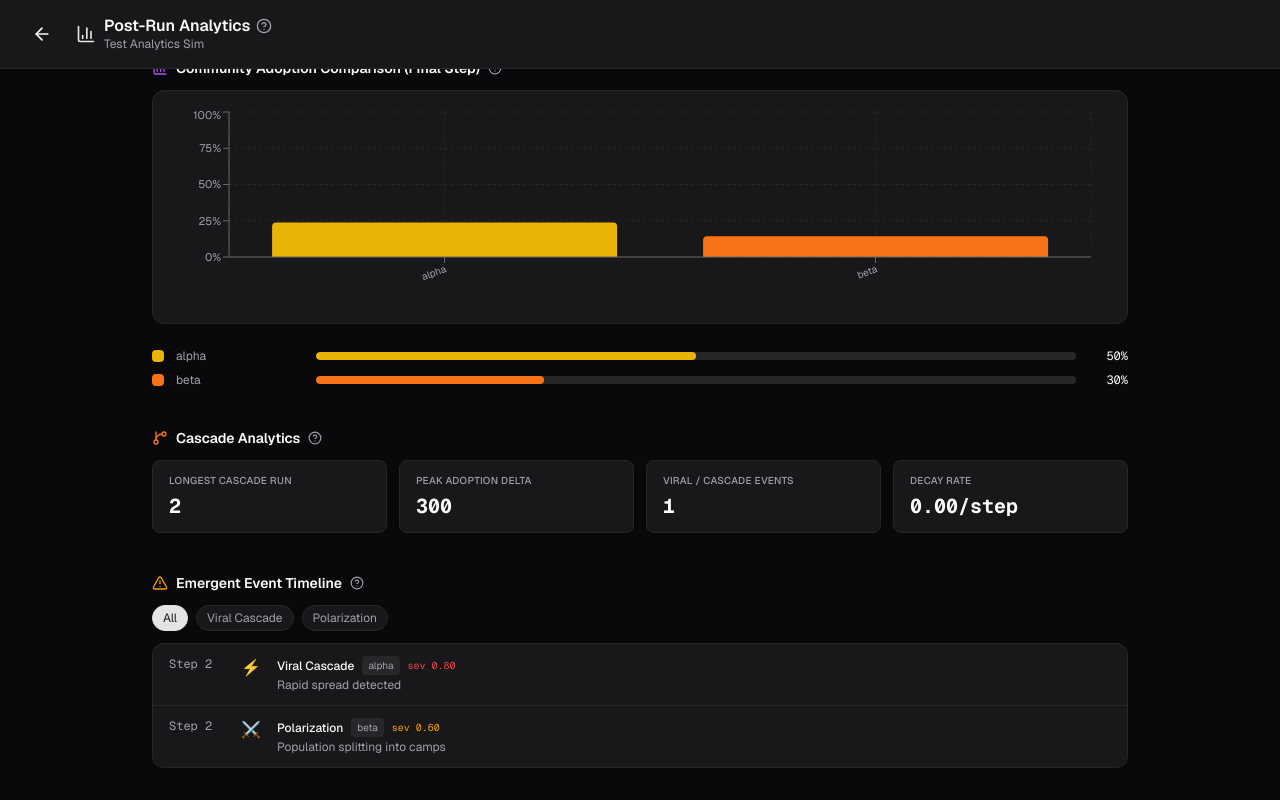
Test: AnalyticsPage (26_ANALYTICS_SPEC) › Event Filter Toolbar (v0.2.0) › clicking "All" after a filter restores every event
(page scrolled)
Expected: the text "Rapid spread detected" is shown, [277, 677, 401, 693]
Click the button with test id "event-filter-polarization". click: (345, 618)
box: [302, 605, 388, 631]
(page scrolled)
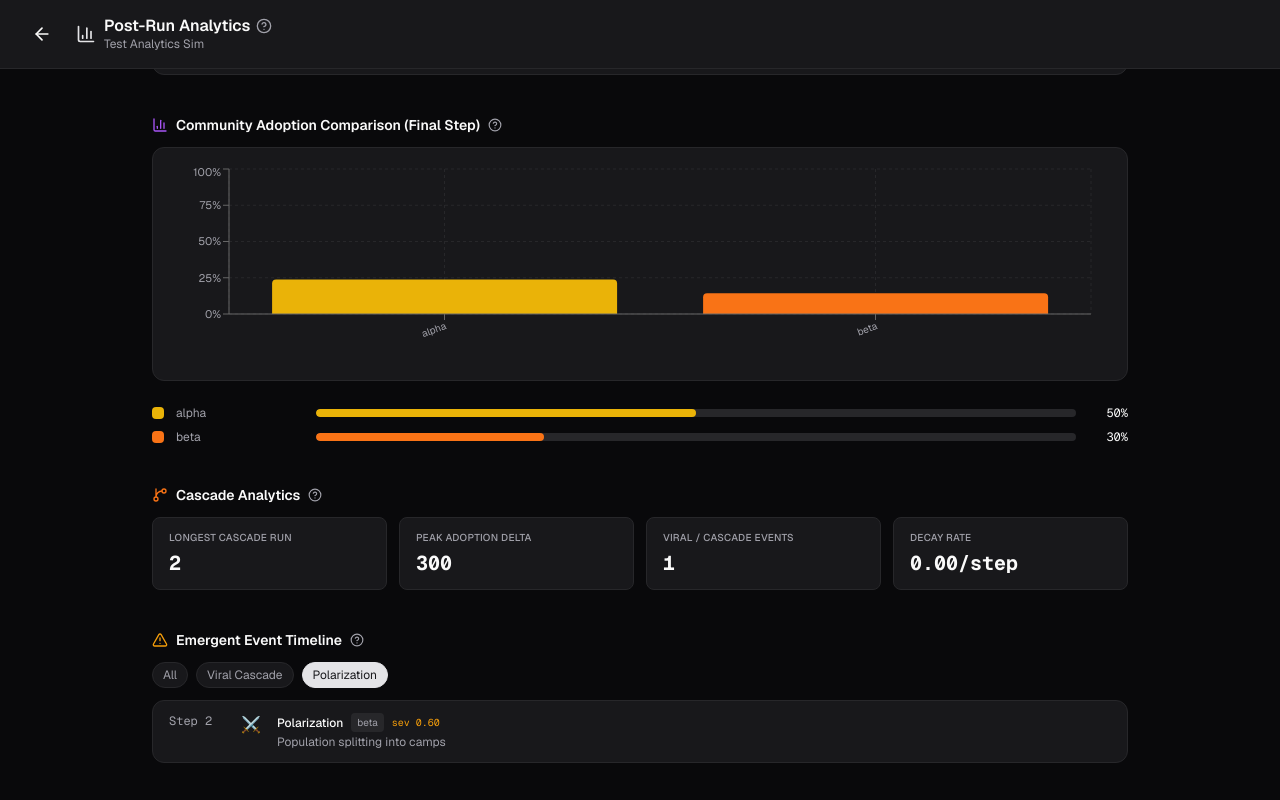
Result: the button "Rapid spread detected" is gone
Click the button with test id "event-filter-all". click: (170, 675)
box: [152, 662, 188, 688]
(page scrolled)
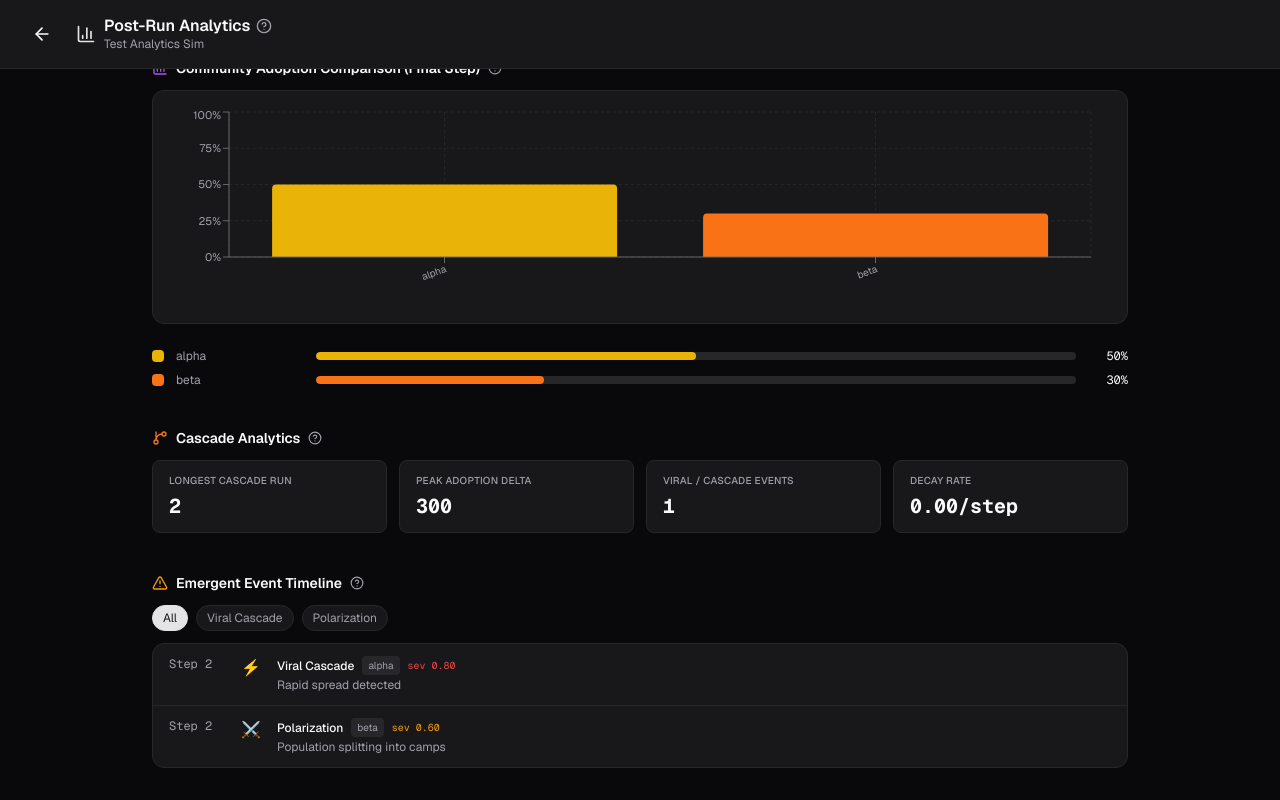
Expected: the text "Population splitting into camps" is shown, [277, 739, 446, 755]
Result: the text "Rapid spread detected" is shown at [277, 677, 401, 693]
